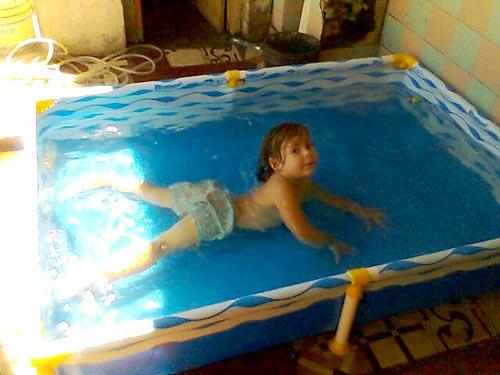human: (60, 120, 383, 296)
